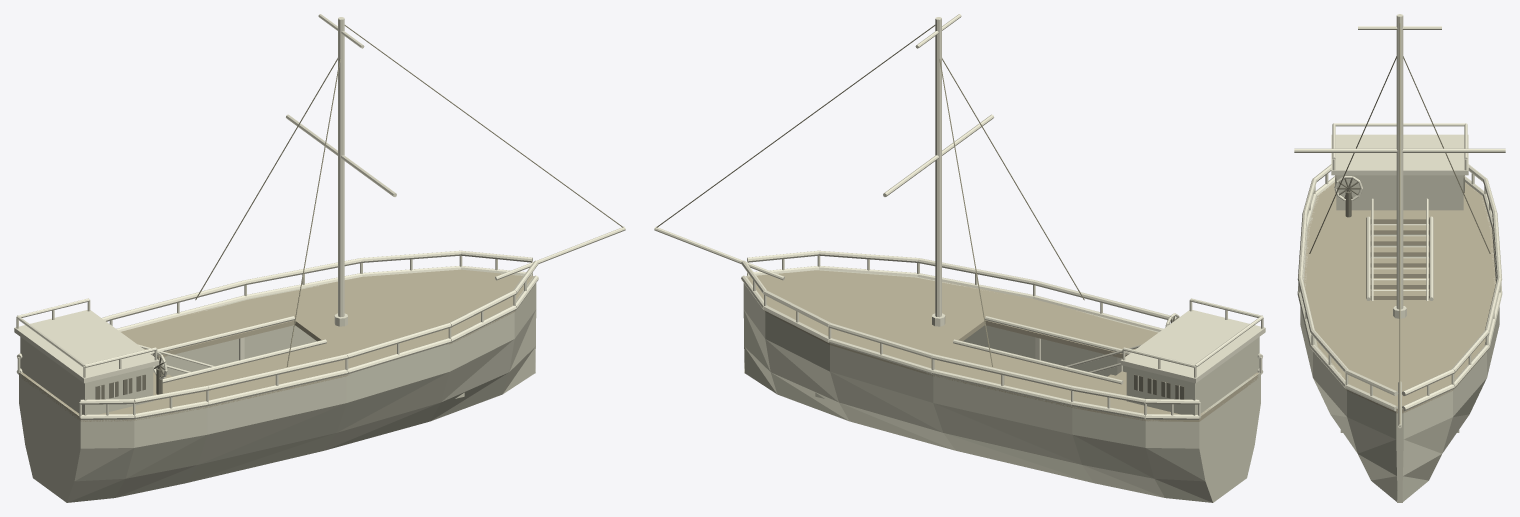
The model's file is reference_ship.fbx.
The picture shows the model from 3 angles, left to right: view 1: azimuth 30°, elevation 25°; view 2: azimuth 150°, elevation 25°; view 3: azimuth 270°, elevation 25°; orthographic projection.
Visible parts, largest first — view 1: Stern_roof, Deck_006, Deck_010, Hull_2_1_2, Hull_2_1_1, Stern_house, Deck_011, Deck_007, Hull_3_1_2, Hull_3_1_1, Hold_lining, Deck_012 (+23 smaller); view 2: Stern_roof, Deck_007, Deck_011, Hull_2_-1_2, Deck_010, Hull_2_-1_1, Stern_house, Deck_006, Hold_lining_001, Hull_3_-1_1, Hull_3_-1_2, Deck_013 (+24 smaller); view 3: Stern_roof, Deck_006, Deck_007, Stern_house, Deck_010, Deck_011, Mast, Deck_012, Deck_013, Hull_5_-1_1, Hull_5_1_1, Hull_5_1_2 (+49 smaller).
Part boxes in pixels (x1,y1,x2,y2): Stern_roof: [14, 310, 159, 383]; Deck_006: [121, 299, 281, 358]; Deck_010: [263, 277, 404, 335]; Hull_2_1_2: [207, 375, 346, 434]; Hull_2_1_1: [198, 403, 346, 464]; Stern_house: [20, 337, 153, 415]; Deck_011: [310, 308, 449, 365]; Deck_007: [176, 347, 346, 407]; Hull_3_1_2: [346, 343, 449, 402]; Hull_3_1_1: [336, 372, 449, 432]; Hold_lining: [153, 325, 316, 376]; Deck_012: [363, 269, 487, 307]; Stern_roof: [1120, 310, 1265, 383]; Deck_007: [998, 299, 1157, 358]; Deck_011: [875, 277, 1017, 335]; Hull_2_-1_2: [933, 374, 1072, 434]; Deck_010: [830, 308, 969, 372]; Hull_2_-1_1: [933, 403, 1081, 464]; Stern_house: [1126, 337, 1259, 415]; Deck_006: [933, 347, 1103, 407]; Hold_lining_001: [963, 325, 1126, 376]; Hull_3_-1_1: [830, 372, 943, 432]; Hull_3_-1_2: [830, 345, 933, 402]; Deck_013: [792, 270, 915, 307]; Stern_roof: [1331, 134, 1468, 175]; Deck_006: [1433, 228, 1495, 294]; Deck_007: [1304, 228, 1366, 294]; Stern_house: [1336, 175, 1463, 210]; Deck_010: [1400, 301, 1491, 346]; Deck_011: [1308, 301, 1399, 346]; Mast: [1396, 14, 1403, 309]; Deck_012: [1400, 347, 1486, 389]; Deck_013: [1318, 347, 1399, 390]; Hull_5_-1_1: [1398, 417, 1452, 475]; Hull_5_1_1: [1347, 417, 1401, 476]; Hull_5_1_2: [1347, 389, 1401, 439].
Bounding box in the file's own units: 21.06 × 14 × 6.8.
